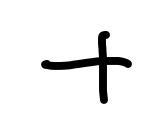plus: (43, 32, 127, 101)
